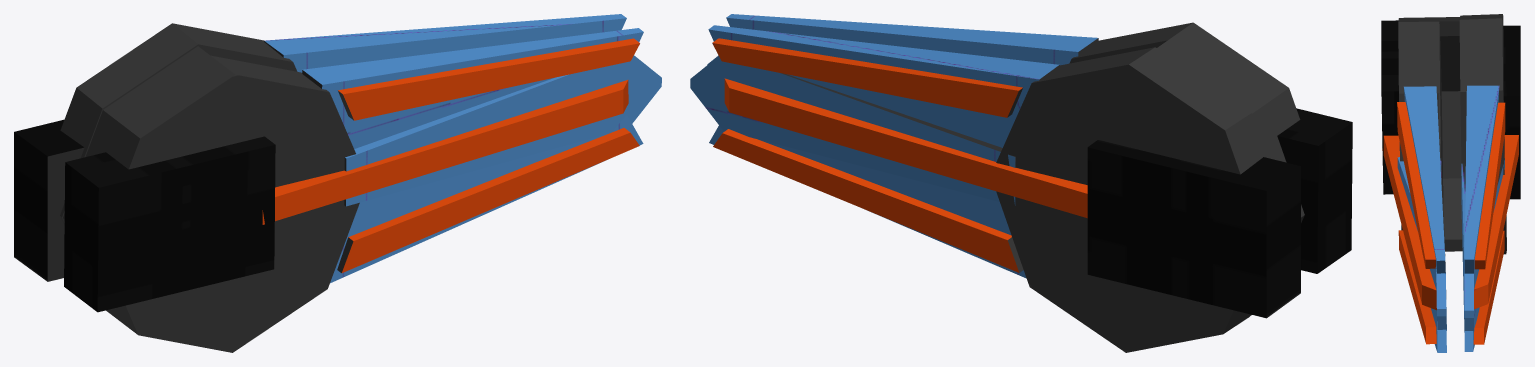
Rendered from setsudan.obj.
3 renders of one model, left to right at view 1: azimuth 30°, elevation 25°; view 2: azimuth 150°, elevation 25°; view 3: azimuth 270°, elevation 25°, orthographic. The views are drawn at different scales.
Parts seen in each view (by area): view 1: name16; view 2: name16; view 3: name16.
Part boxes in pixels (box(x1,y1,x2,y2)): name16: box(14, 14, 661, 352); name16: box(690, 14, 1352, 352); name16: box(1381, 14, 1520, 352).
Bounding box in the file's own units: 1.98 × 0.9029 × 0.4864.
1 material, 1 textured.
